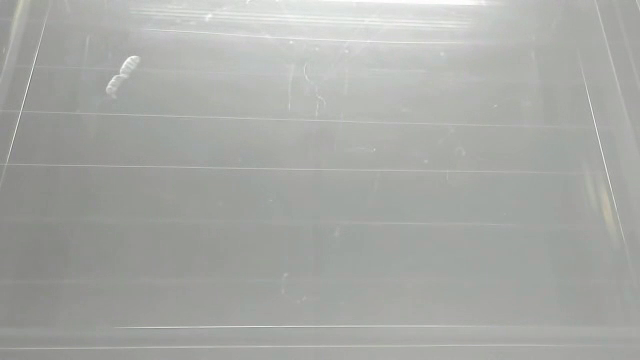alpha: (102, 53, 146, 104)
